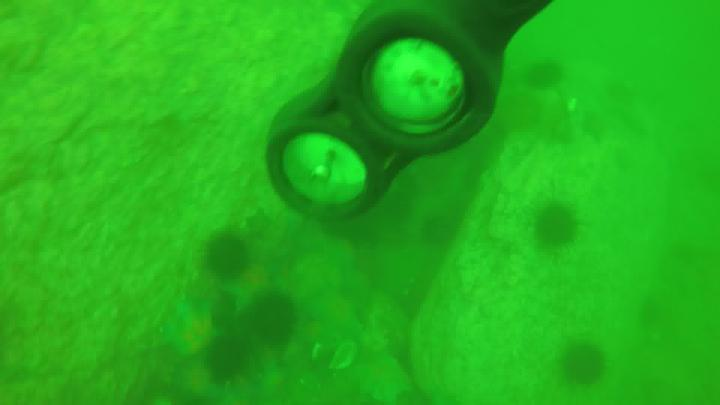echinus: (250, 292, 300, 348), (202, 340, 257, 389), (203, 234, 253, 283), (537, 203, 580, 248), (564, 344, 604, 385)
